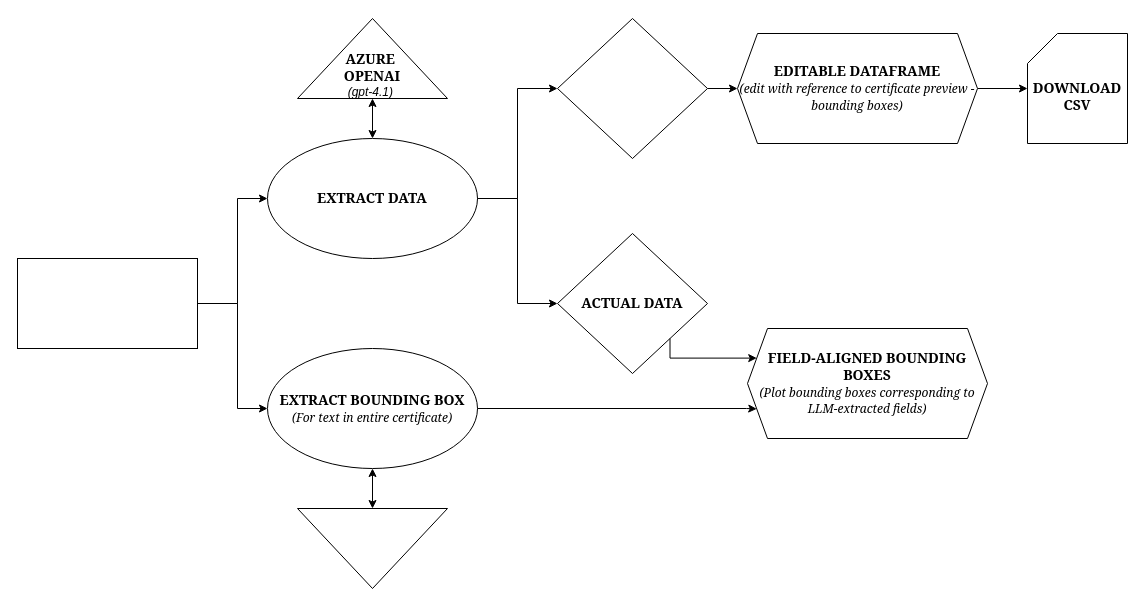
The diagram is 1145 pixels wide and 606 high, and some of its shapes have lost their labels. Each missing label, with the centre of its shape:
"AZURE AI VISION (OCR)" belongs at point 372,548.
"CERTIFICATE PROCESSING" belongs at point 107,303.
"REQUIRED FORMAT" belongs at point 632,88.
